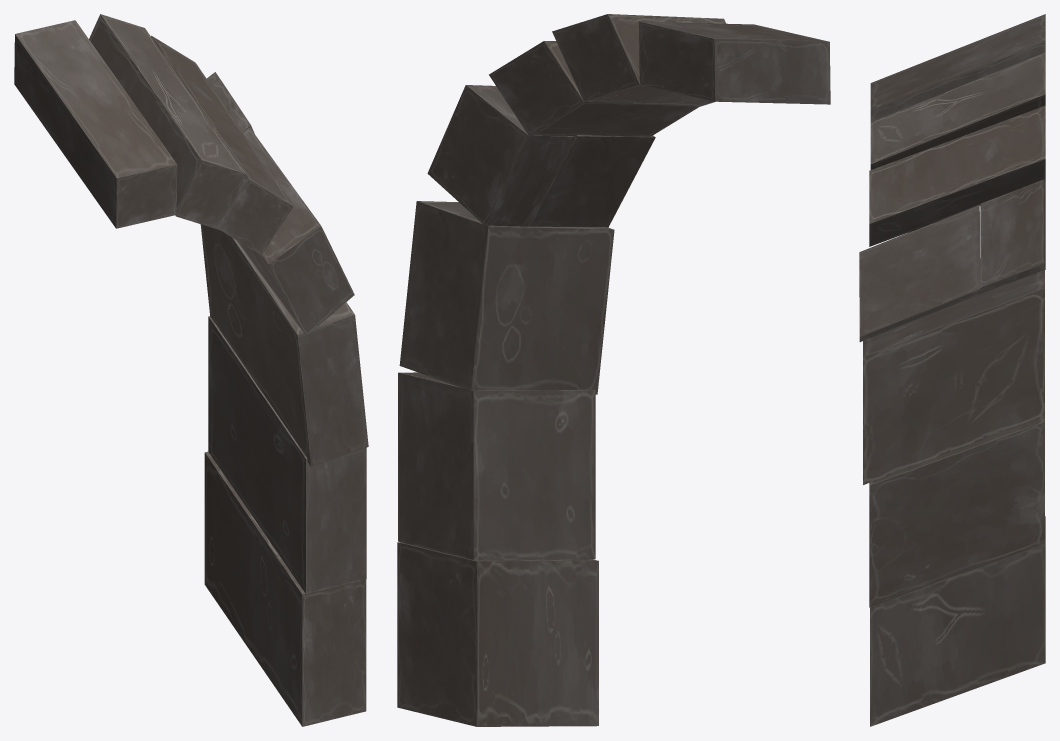
3 views of the same model, side by side, from view 1: azimuth 30°, elevation 25°; view 2: azimuth 150°, elevation 25°; view 3: azimuth 270°, elevation 25° (orthographic). The views are drawn at different scales.
Parts seen in each view (by area): view 1: pCube25462, polySurface399, polySurface400, polySurface405, polySurface404, polySurface403, polySurface401, polySurface406; view 2: polySurface399, pCube25462, polySurface400, polySurface405, polySurface406, polySurface401, polySurface404, polySurface403; view 3: polySurface400, polySurface399, pCube25462, polySurface401, polySurface403, polySurface404, polySurface405, polySurface406.
Part boxes in pixels (bbox=[...]): pCube25462: bbox=[204, 451, 366, 726]; polySurface399: bbox=[208, 316, 366, 593]; polySurface400: bbox=[200, 224, 368, 466]; polySurface405: bbox=[14, 20, 177, 228]; polySurface404: bbox=[89, 14, 245, 229]; polySurface403: bbox=[237, 127, 354, 336]; polySurface401: bbox=[151, 35, 293, 255]; polySurface406: bbox=[206, 72, 254, 133]; polySurface399: bbox=[398, 372, 595, 559]; pCube25462: bbox=[397, 542, 598, 726]; polySurface400: bbox=[399, 201, 614, 394]; polySurface405: bbox=[639, 21, 830, 104]; polySurface406: bbox=[427, 85, 573, 226]; polySurface401: bbox=[489, 41, 699, 136]; polySurface404: bbox=[552, 14, 725, 106]; polySurface403: bbox=[531, 135, 655, 227]; polySurface400: bbox=[863, 270, 1044, 484]; polySurface399: bbox=[869, 416, 1044, 607]; pCube25462: bbox=[870, 516, 1045, 726]; polySurface401: bbox=[869, 105, 1045, 246]; polySurface403: bbox=[859, 204, 980, 341]; polySurface404: bbox=[870, 52, 1045, 169]; polySurface405: bbox=[870, 14, 1045, 121]; polySurface406: bbox=[980, 179, 1045, 293].
Size of the model in its own units: 1.51 by 3.78 by 1.06.
